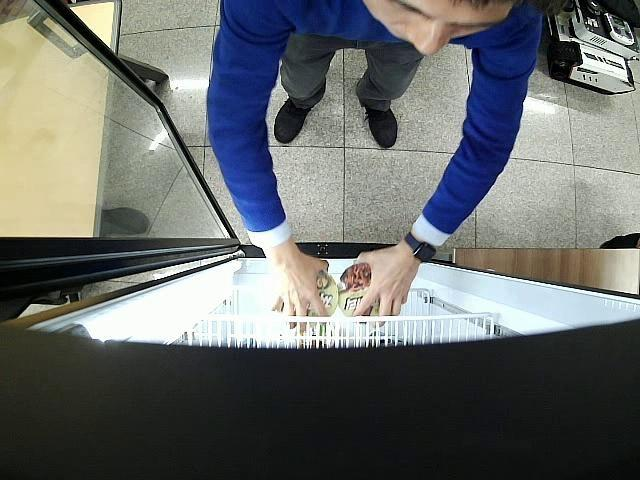03_chapagetti_L: (294, 271, 339, 328), (338, 264, 378, 316)
